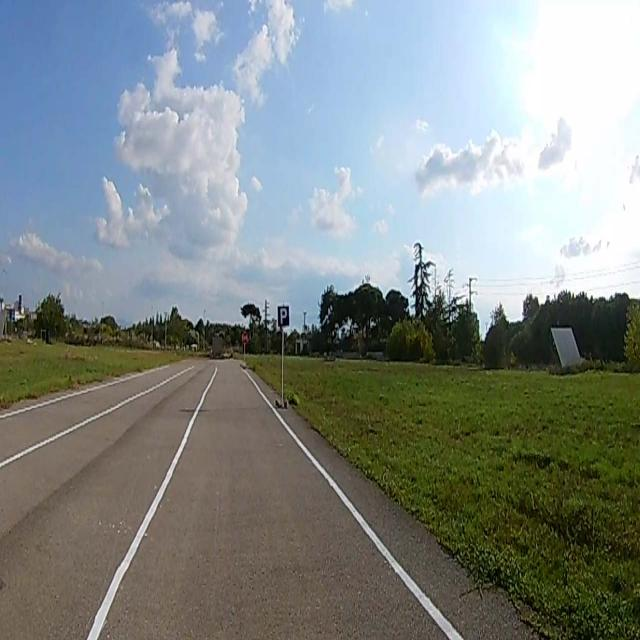park: (278, 306, 289, 326)
